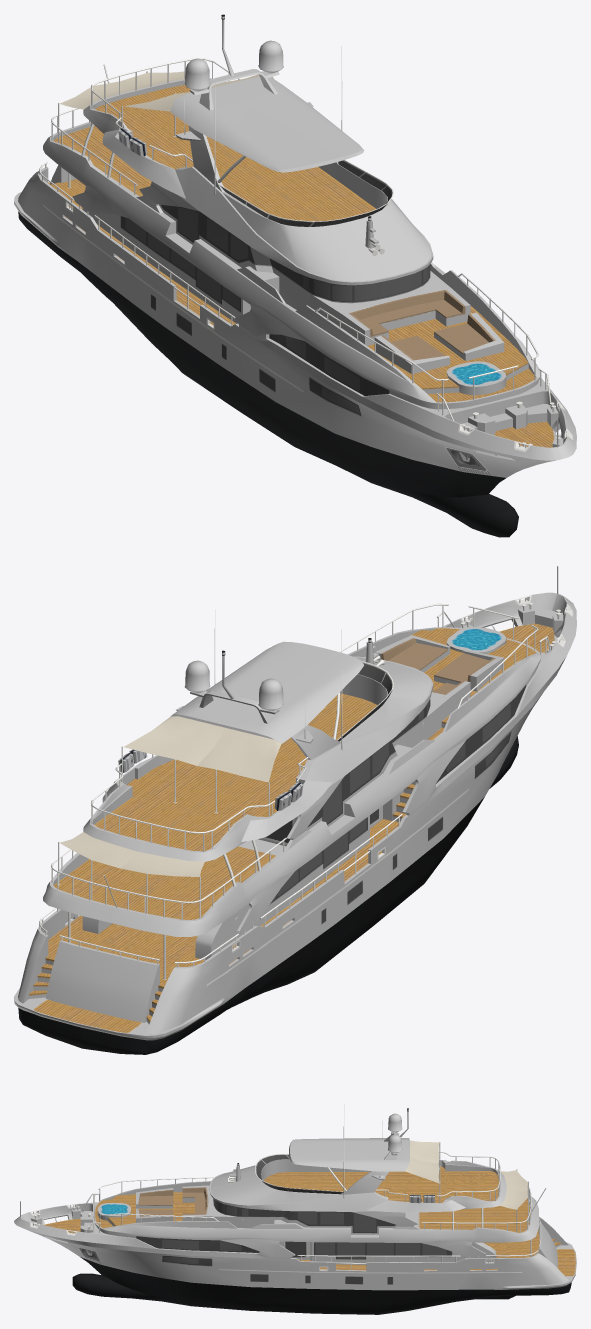
File: yacht.gltf
The picture shows the model from 3 angles, top to bottom: view 1: azimuth 30°, elevation 25°; view 2: azimuth 150°, elevation 25°; view 3: azimuth 270°, elevation 25°; orthographic projection. The views are drawn at different scales.
Visible parts, largest first — view 1: korpus1; view 2: korpus1; view 3: korpus1.
Part boxes in pixels (bbox=[...]): korpus1: bbox=[14, 14, 576, 537]; korpus1: bbox=[14, 566, 576, 1054]; korpus1: bbox=[14, 1104, 576, 1314].
Size of the model in its own units: 8.21 by 15.65 by 40.33.
Materials: 1 (1 with a texture image).
